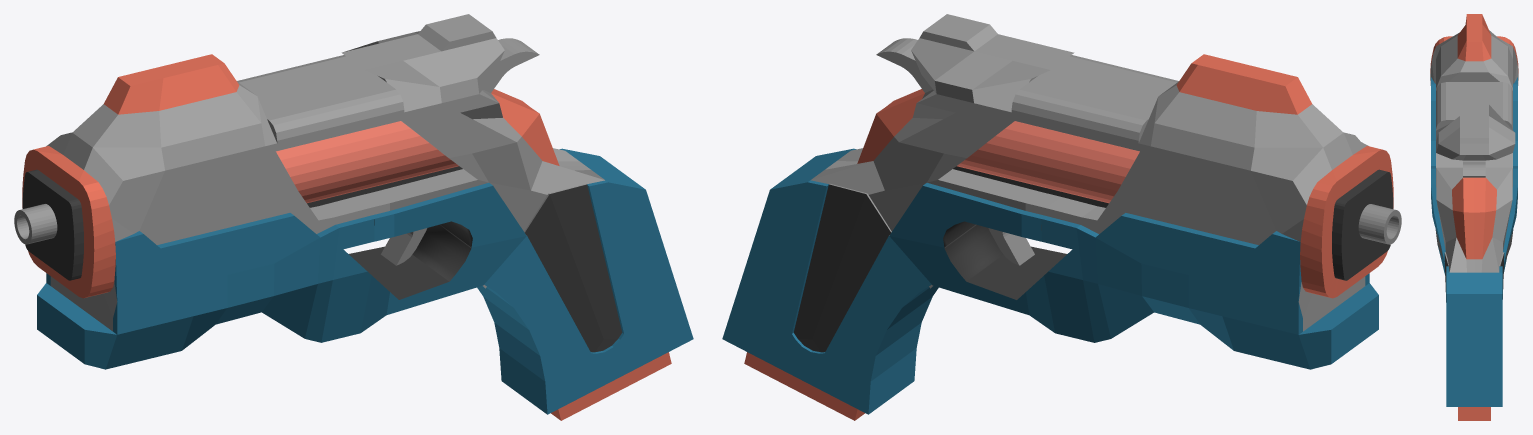
Rendered from pistol.fbx.
3 views of the same model, side by side, from view 1: azimuth 30°, elevation 25°; view 2: azimuth 150°, elevation 25°; view 3: azimuth 270°, elevation 25° (orthographic). The views are drawn at different scales.
Visible parts, largest first — view 1: Cube, Cylinder, Cylinder.001, Cube.001; view 2: Cube, Cylinder, Cylinder.001, Cube.001; view 3: Cube.
Boxes of the visible parts, box(x1,y1,x2,y2) form: Cube: box(22, 14, 693, 420); Cylinder: box(276, 121, 458, 203); Cylinder.001: box(14, 204, 57, 244); Cube.001: box(381, 228, 427, 265); Cube: box(722, 14, 1393, 420); Cylinder: box(957, 121, 1139, 203); Cylinder.001: box(1358, 204, 1401, 244); Cube.001: box(988, 228, 1034, 265); Cube: box(1430, 14, 1518, 420).
Size of the model in its own units: 272 by 173 by 52.26.
